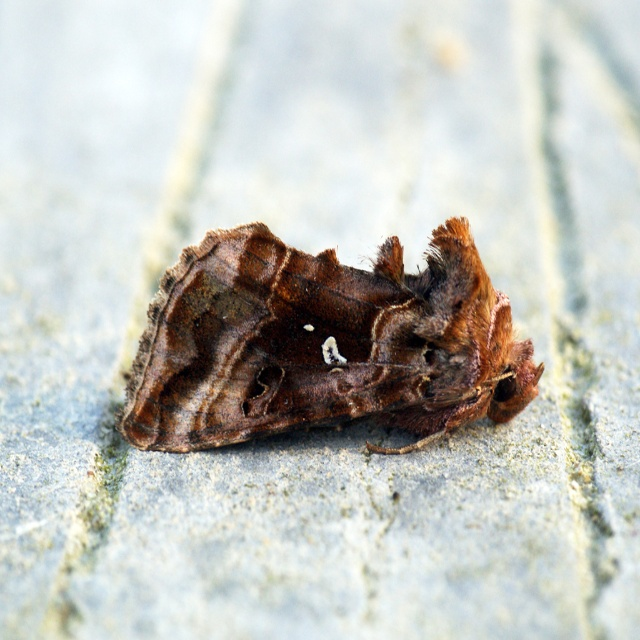Moths and butterflies: (112, 214, 546, 451)
